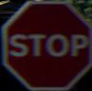Stop: (5, 3, 86, 87)
